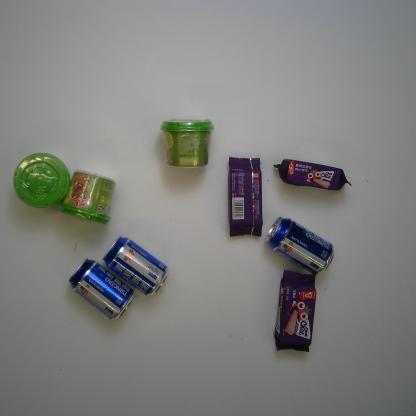Alcohol: (68, 258, 135, 322), (265, 216, 335, 275), (102, 235, 168, 297)
Dessert: (274, 269, 317, 353), (227, 156, 264, 238), (272, 158, 353, 191)
Instant Drink: (12, 152, 70, 209), (57, 170, 116, 226), (160, 118, 214, 168)
